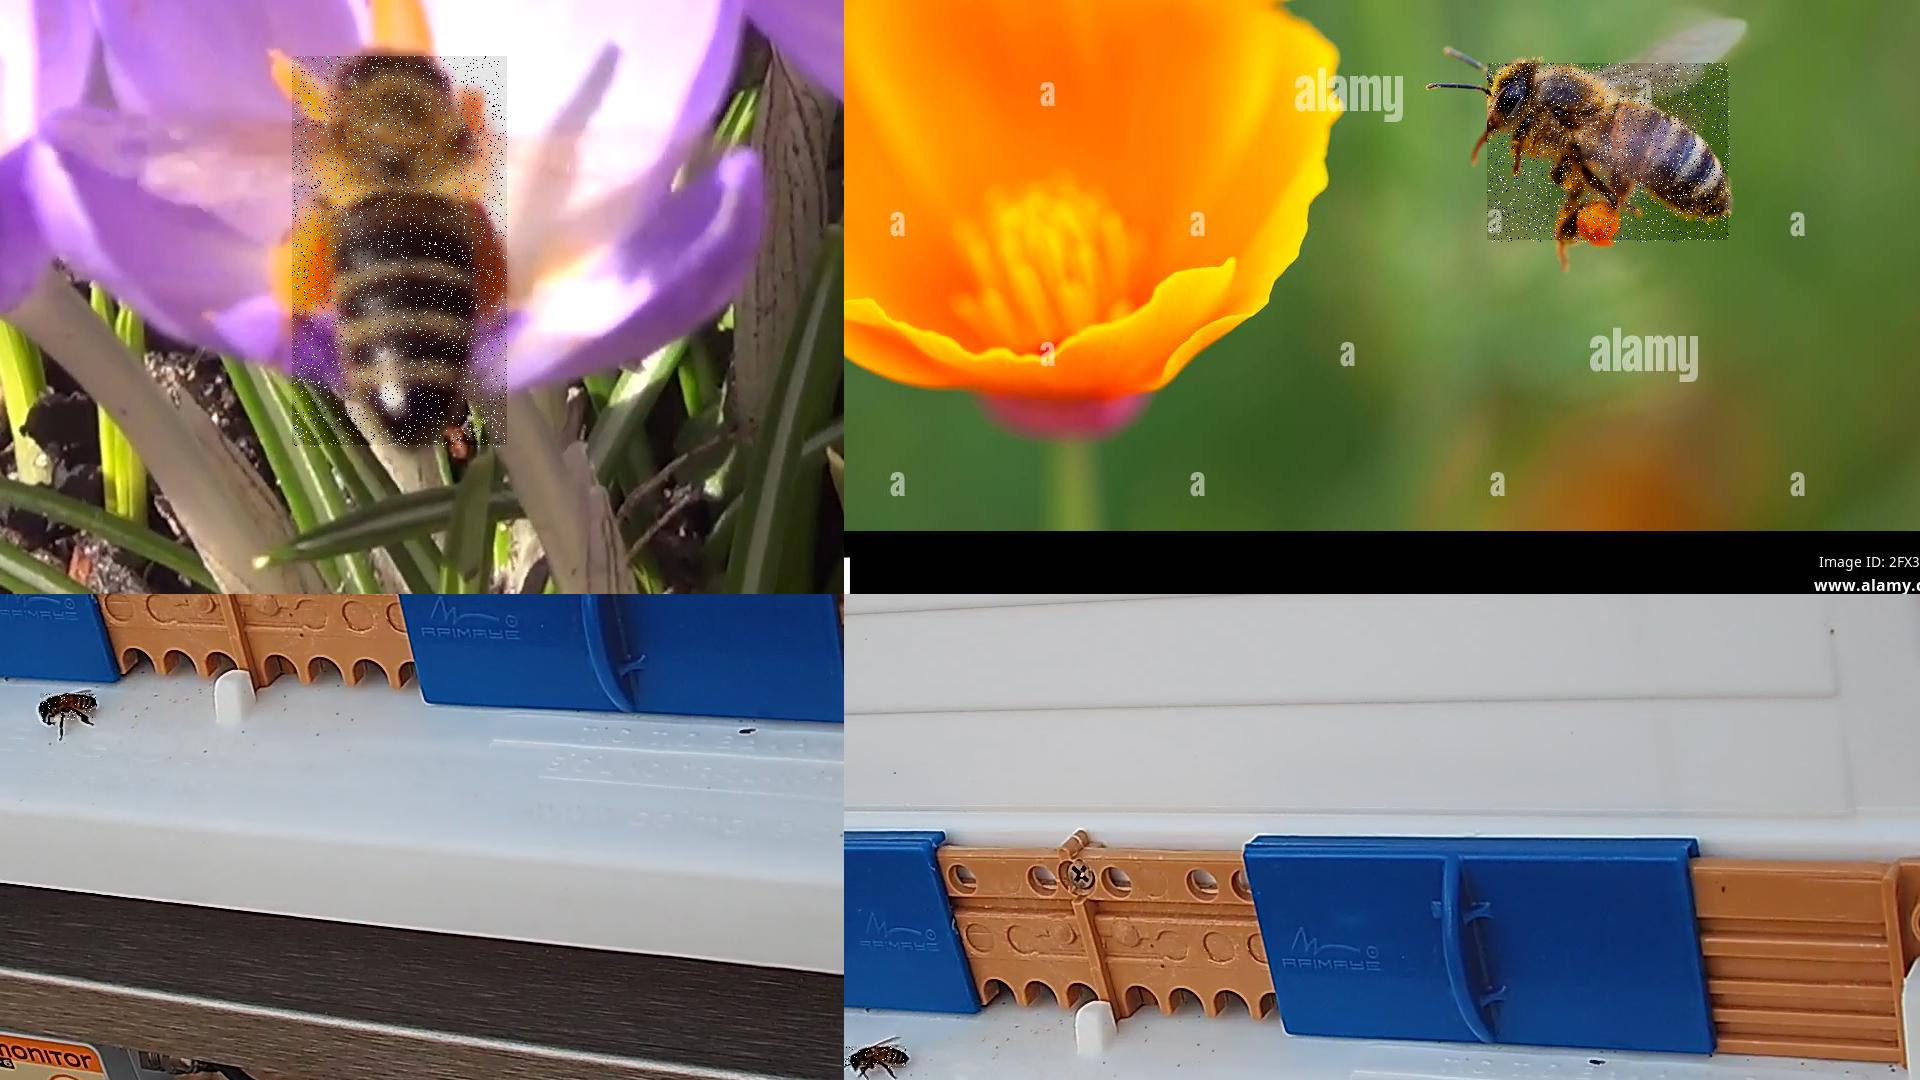bee: (41, 694, 98, 721), (845, 1046, 907, 1069)
pollenbee: (293, 57, 509, 448), (1487, 63, 1731, 244)
